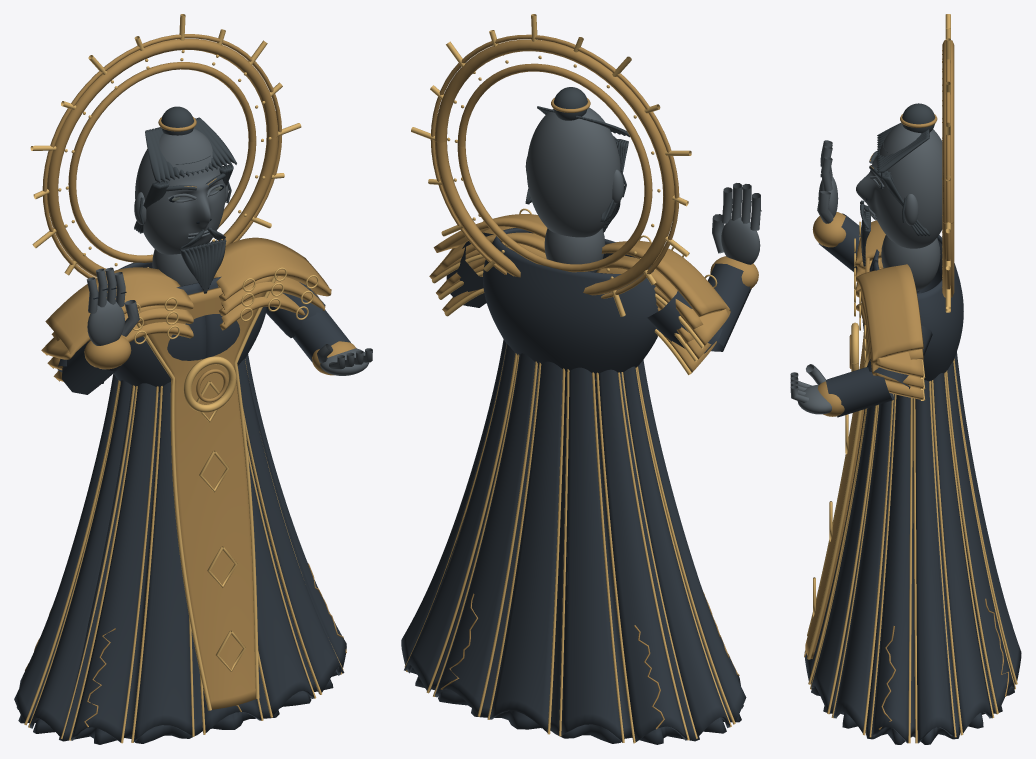
File: sanctum-guardian-v01.glb
3 views of the same model, side by side, from view 1: azimuth 30°, elevation 25°; view 2: azimuth 150°, elevation 25°; view 3: azimuth 270°, elevation 25° (orthographic). The views are drawn at different scales.
Parts seen in each view (by area): view 1: Sanctum Guardian charcoal robe, Sanctum Guardian aged bronze, Sanctum Guardian chased light bronze, Sanctum Guardian basalt skin, Sanctum Guardian carved hair; view 2: Sanctum Guardian charcoal robe, Sanctum Guardian aged bronze, Sanctum Guardian chased light bronze, Sanctum Guardian basalt skin, Sanctum Guardian carved hair; view 3: Sanctum Guardian charcoal robe, Sanctum Guardian aged bronze, Sanctum Guardian chased light bronze, Sanctum Guardian basalt skin, Sanctum Guardian carved hair.
Boxes of the visible parts, x1,y1,x2,y2 form: Sanctum Guardian charcoal robe: (14, 262, 351, 744); Sanctum Guardian aged bronze: (25, 34, 356, 727); Sanctum Guardian chased light bronze: (24, 14, 343, 743); Sanctum Guardian basalt skin: (86, 128, 372, 375); Sanctum Guardian carved hair: (134, 106, 236, 293); Sanctum Guardian charcoal robe: (401, 228, 751, 744); Sanctum Guardian aged bronze: (429, 34, 758, 729); Sanctum Guardian chased light bronze: (404, 14, 735, 743); Sanctum Guardian basalt skin: (525, 107, 760, 272); Sanctum Guardian carved hair: (525, 87, 629, 232); Sanctum Guardian charcoal robe: (804, 213, 1021, 744); Sanctum Guardian aged bronze: (804, 40, 1008, 729); Sanctum Guardian chased light bronze: (807, 14, 1017, 743); Sanctum Guardian basalt skin: (790, 123, 942, 414); Sanctum Guardian carved hair: (860, 103, 935, 266).
Size of the model in its own units: 2.48 by 5.05 by 1.64.
